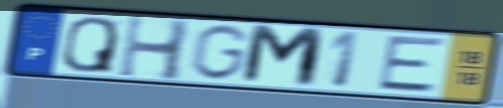1: (327, 29, 361, 90)
E: (374, 35, 451, 95)
G: (186, 23, 253, 83)
H: (114, 13, 195, 84)
M: (238, 22, 329, 91)
Q: (59, 15, 120, 76)
